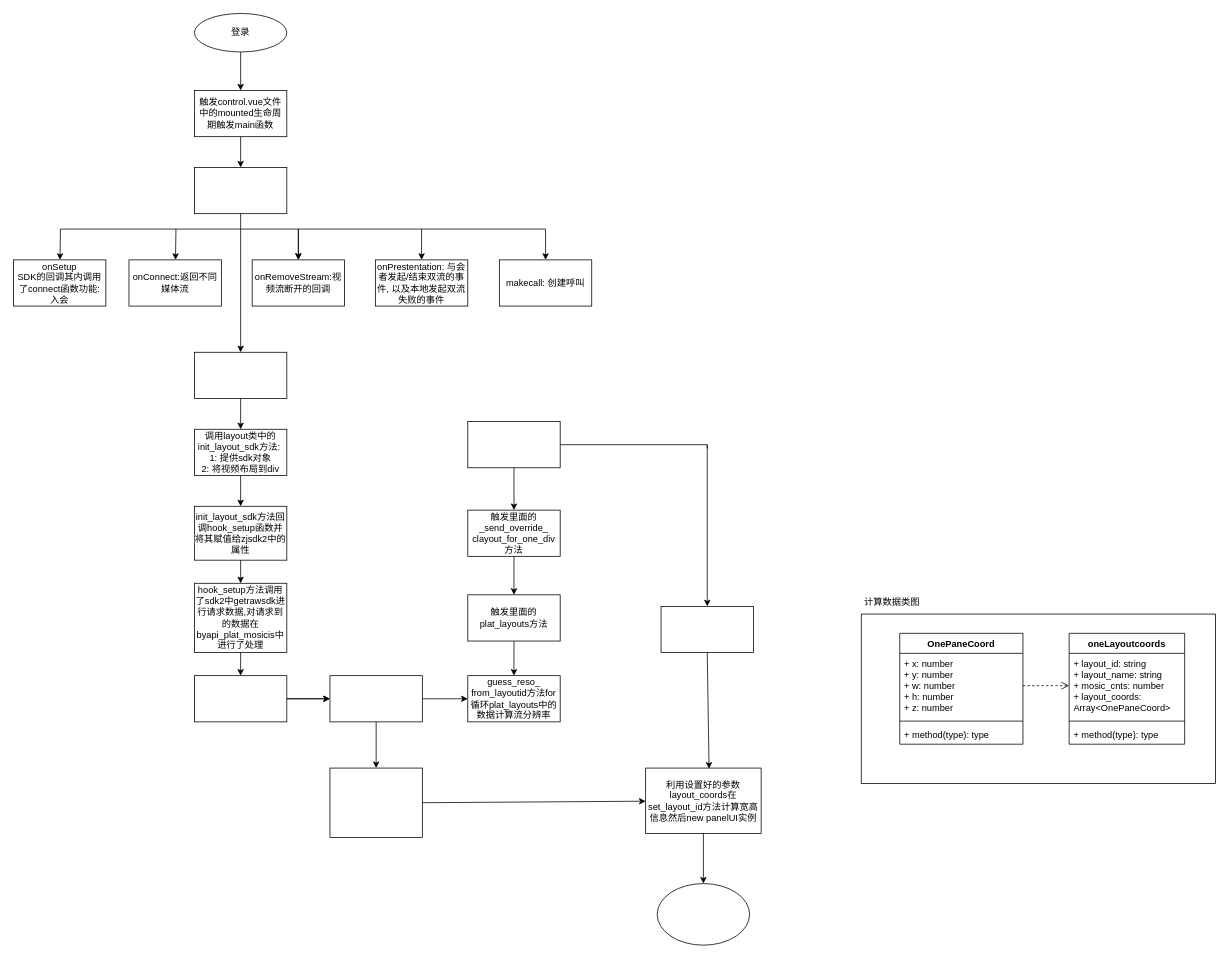
The diagram is 1229 pixels wide and 959 high, and some of its shapes have lost their labels. Each missing label, with the centre of its shape:
在add_one_div中将plat_layouts作为属性值给到UI中的set_option方法进行参数设置: point 375,802
在window对象上增加layout属性并复制为sdk中layout类: point 240,375
在window对象上挂载 new zjsdk2()并调用以下方法: point 240,190
将处理好的数据给到layoutSdk_inner类中的plat_layouts属性: point 375,698
布局结束: point 703,914
最终将处理好的数据放到oneLayoutcoords和onePaneCoords类中: point 240,698
触发set_layout_id方法: point 706,629
调用SDK中follow_plat_layout方法触发fire_layout_policy方法: point 513,444
